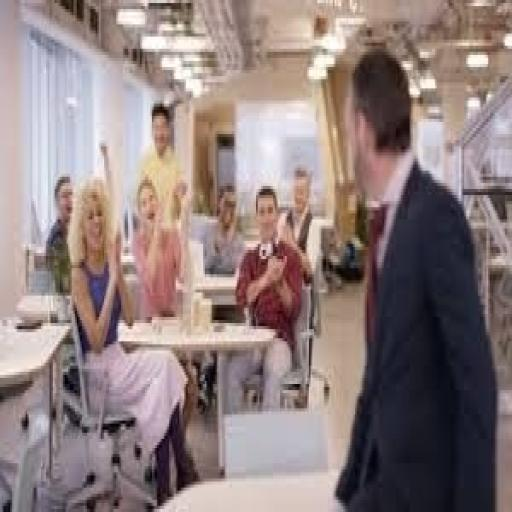clapping: (65, 171, 201, 503), (222, 183, 304, 414)
